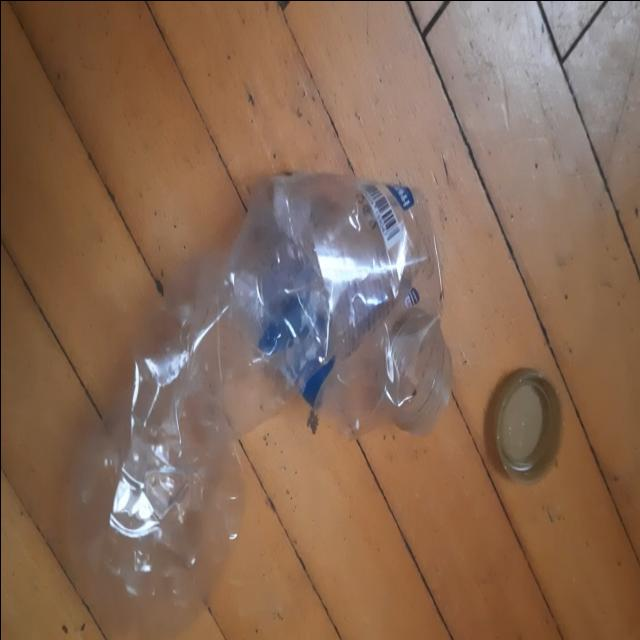Plastic: (70, 171, 450, 639)
